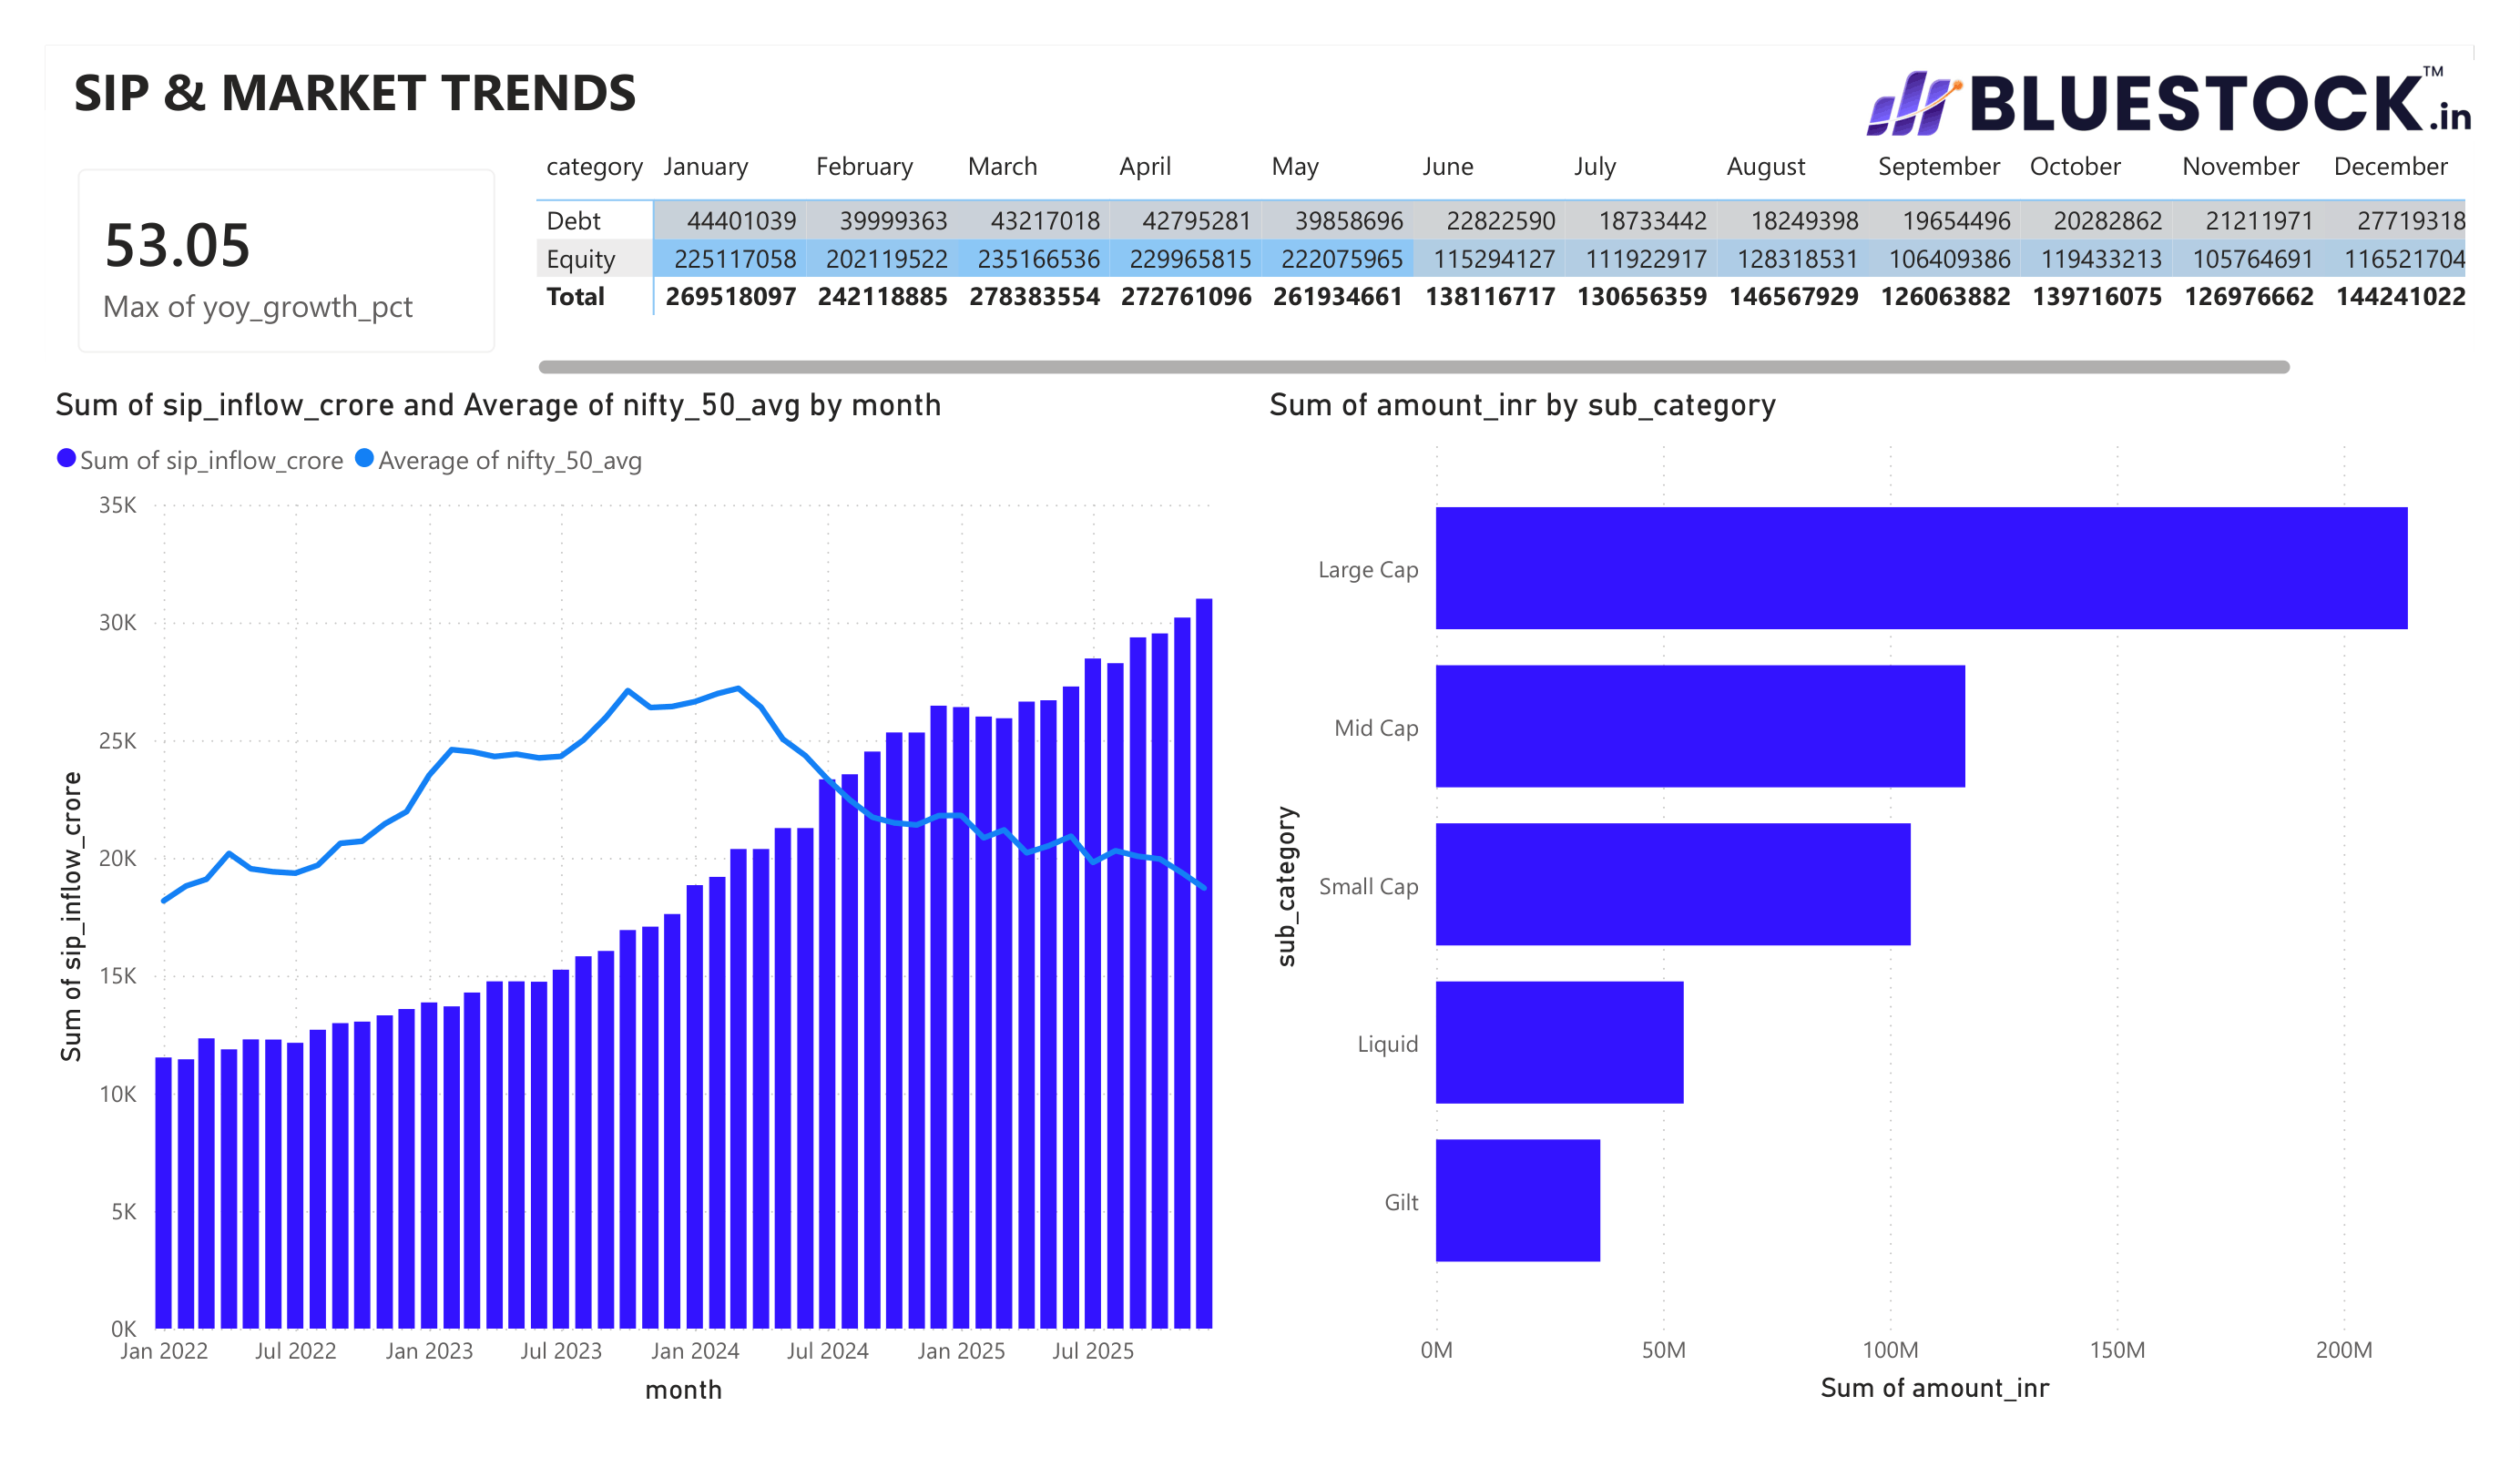

What the dashboard file says about the page in this screenshot:
{"tool":"powerbi","page":{"name":"Page 4","canvas":[1280,720],"ordinal":3},"visuals":[{"type":"textbox","box":[10.4,0,320.1,48],"z":0},{"type":"cardVisual","fields":{"Data":["Max(clean_monthly_sip_inflows.yoy_growth_pct)"]},"box":[0,48.4,253.9,130.6],"z":1000},{"type":"lineClusteredColumnComboChart","fields":{"Y":["Sum(clean_sip_vs_nifty.sip_inflow_crore)"],"Y2":["Avg(clean_sip_vs_nifty.nifty_50_avg)"],"Category":["clean_sip_vs_nifty.month"]},"box":[0,179,639.8,541.5],"z":2000},{"type":"pivotTable","fields":{"Rows":["clean_fund_master.category"],"Columns":["clean_transactions.transaction_date.Variation.Date Hierarchy.Year","clean_transactions.transaction_date.Variation.Date Hierarchy.Month"],"Values":["Sum(clean_transactions.amount_inr)"]},"box":[253.9,48.4,1025.7,130.6],"z":3000},{"type":"clusteredBarChart","fields":{"Category":["clean_fund_master.sub_category"],"Y":["Sum(clean_transactions.amount_inr)"]},"box":[639.8,179,639.8,541.5],"z":4000},{"type":"image","box":[959.1,0,321.4,58.3],"z":4001}]}

Visuals, with their boxes on the page's 1280x720 design canvas (x1, y1, x2, y2). These are canvas units, not pixel positions in the 2520x1457 screenshot, which may show the page scaled, cropped or inside an application window:
textbox: rect(10, 0, 330, 48)
cardVisual - Max(clean_monthly_sip_inflows.yoy_growth_pct): rect(0, 48, 254, 179)
lineClusteredColumnComboChart - Sum(clean_sip_vs_nifty.sip_inflow_crore) x Avg(clean_sip_vs_nifty.nifty_50_avg): rect(0, 179, 640, 720)
pivotTable - clean_fund_master.category x clean_transactions.transaction_date.Variation.Date Hierarchy.Year: rect(254, 48, 1280, 179)
clusteredBarChart - clean_fund_master.sub_category x Sum(clean_transactions.amount_inr): rect(640, 179, 1280, 720)
image: rect(959, 0, 1280, 58)
